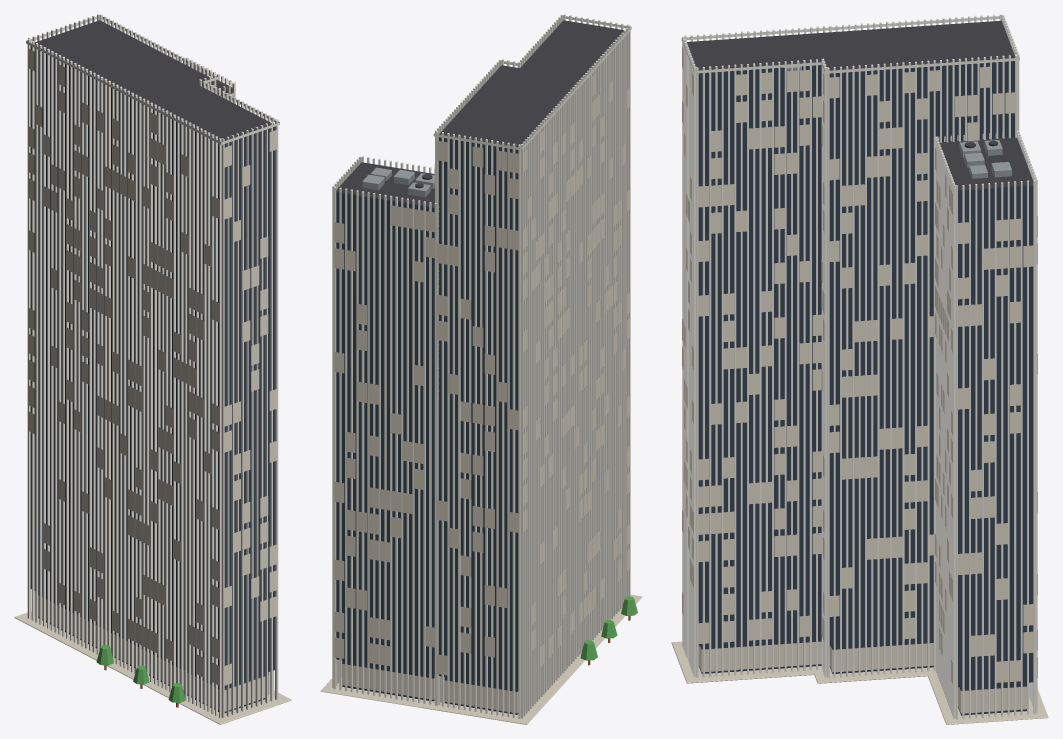
The model's file is 44-montgomery-street.glb.
3 renders of one model, left to right at view 1: azimuth 30°, elevation 25°; view 2: azimuth 150°, elevation 25°; view 3: azimuth 270°, elevation 25°, orthographic. The views are drawn at different scales.
Parts seen in each view (by area): view 1: 44-montgomery-street_body, 44-montgomery-street_night_glow; view 2: 44-montgomery-street_body, 44-montgomery-street_night_glow; view 3: 44-montgomery-street_body, 44-montgomery-street_night_glow.
Boxes of the visible parts, x1,y1,x2,y2 form: 44-montgomery-street_body: [14, 14, 291, 724]; 44-montgomery-street_night_glow: [26, 16, 279, 711]; 44-montgomery-street_body: [320, 14, 642, 724]; 44-montgomery-street_night_glow: [334, 16, 631, 713]; 44-montgomery-street_body: [671, 14, 1048, 724]; 44-montgomery-street_night_glow: [681, 16, 1037, 713].
Bounding box in the file's own units: 63.5 × 172 × 96.37.
